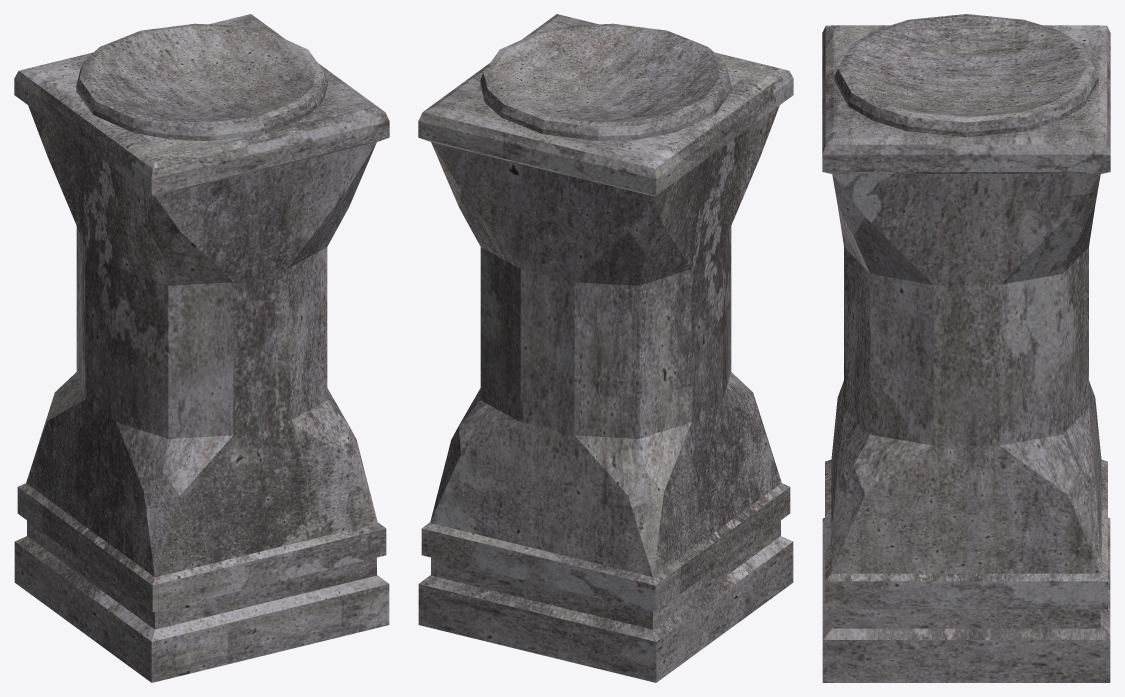
The model's file is Pillier.fbx.
3 renders of one model, left to right at view 1: azimuth 30°, elevation 25°; view 2: azimuth 150°, elevation 25°; view 3: azimuth 270°, elevation 25°, orthographic. The views are drawn at different scales.
Visible parts, largest first — view 1: Cube; view 2: Cube; view 3: Cube.
Boxes of the visible parts, box(x1,y1,x2,y2) form: Cube: box(14, 14, 389, 682); Cube: box(418, 14, 793, 682); Cube: box(822, 14, 1110, 682).
Bounding box in the file's own units: 96.25 × 205 × 96.25.
1 material, 1 textured.
